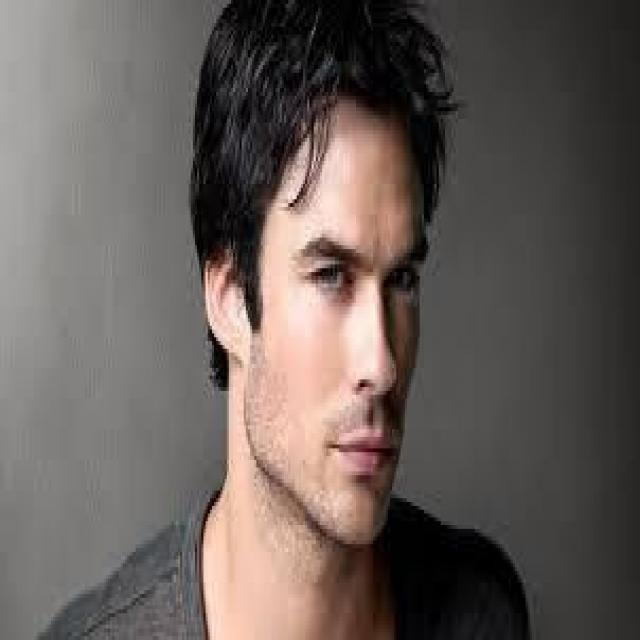person: (44, 0, 540, 636)
